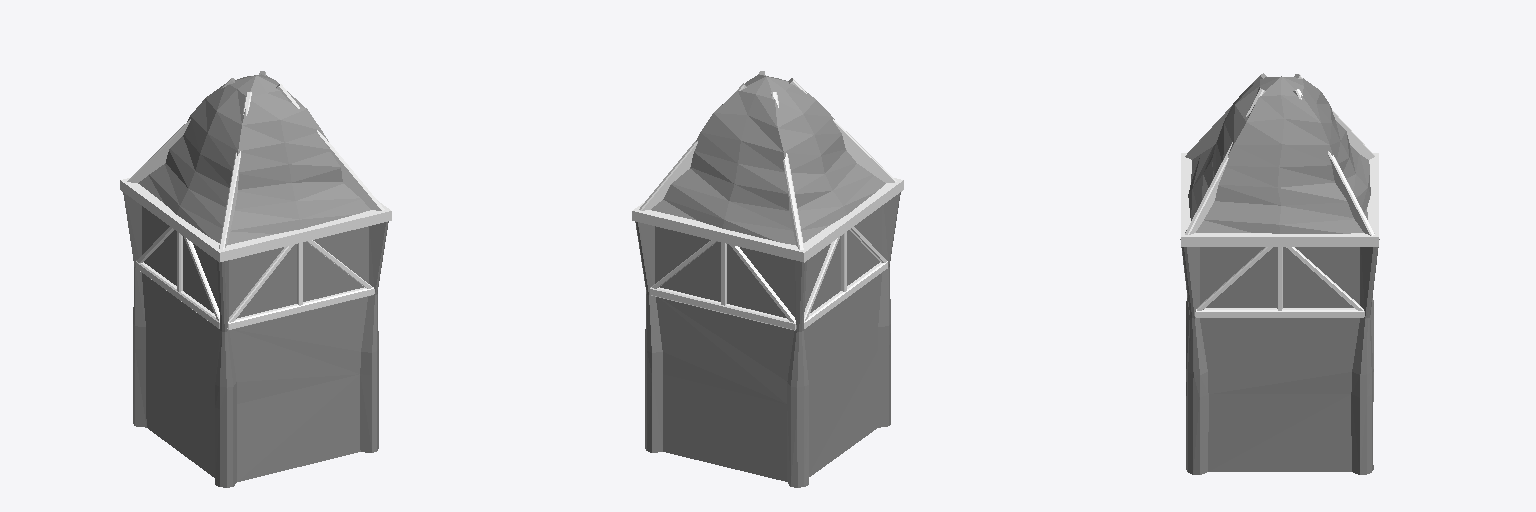
File: ex_common_house_tall_01.obj
3 renders of one model, left to right at view 1: azimuth 30°, elevation 25°; view 2: azimuth 150°, elevation 25°; view 3: azimuth 270°, elevation 25°, orthographic.
Visible parts, largest first — view 1: nifid_35-matrix_Tri_Ex_common_house_tall_01_2-lib, nifid_2-matrix_Tri_ChamferBox01_0-lib, nifid_12-matrix_Tri_ChamferBox01_2-lib, nifid_27-matrix_Tri_Ex_common_house_tall_01_0-lib, nifid_22-matrix_Tri_ChamferBox01_4-lib, nifid_17-matrix_Tri_ChamferBox01_3-lib, nifid_7-matrix_Tri_ChamferBox01_1-lib; view 2: nifid_35-matrix_Tri_Ex_common_house_tall_01_2-lib, nifid_2-matrix_Tri_ChamferBox01_0-lib, nifid_12-matrix_Tri_ChamferBox01_2-lib, nifid_27-matrix_Tri_Ex_common_house_tall_01_0-lib, nifid_22-matrix_Tri_ChamferBox01_4-lib, nifid_17-matrix_Tri_ChamferBox01_3-lib, nifid_7-matrix_Tri_ChamferBox01_1-lib; view 3: nifid_35-matrix_Tri_Ex_common_house_tall_01_2-lib, nifid_2-matrix_Tri_ChamferBox01_0-lib, nifid_12-matrix_Tri_ChamferBox01_2-lib, nifid_27-matrix_Tri_Ex_common_house_tall_01_0-lib, nifid_22-matrix_Tri_ChamferBox01_4-lib, nifid_17-matrix_Tri_ChamferBox01_3-lib, nifid_7-matrix_Tri_ChamferBox01_1-lib.
Boxes of the visible parts, <box> form: nifid_35-matrix_Tri_Ex_common_house_tall_01_2-lib: <box>138,74,370,244</box>; nifid_2-matrix_Tri_ChamferBox01_0-lib: <box>142,273,367,403</box>; nifid_12-matrix_Tri_ChamferBox01_2-lib: <box>146,350,360,481</box>; nifid_27-matrix_Tri_Ex_common_house_tall_01_0-lib: <box>120,72,391,330</box>; nifid_22-matrix_Tri_ChamferBox01_4-lib: <box>142,206,368,318</box>; nifid_17-matrix_Tri_ChamferBox01_3-lib: <box>133,267,378,487</box>; nifid_7-matrix_Tri_ChamferBox01_1-lib: <box>123,192,388,331</box>; nifid_35-matrix_Tri_Ex_common_house_tall_01_2-lib: <box>651,75,885,244</box>; nifid_2-matrix_Tri_ChamferBox01_0-lib: <box>656,273,881,404</box>; nifid_12-matrix_Tri_ChamferBox01_2-lib: <box>663,350,877,481</box>; nifid_27-matrix_Tri_Ex_common_house_tall_01_0-lib: <box>632,74,903,330</box>; nifid_22-matrix_Tri_ChamferBox01_4-lib: <box>655,206,881,318</box>; nifid_17-matrix_Tri_ChamferBox01_3-lib: <box>645,267,890,487</box>; nifid_7-matrix_Tri_ChamferBox01_1-lib: <box>635,192,900,331</box>; nifid_35-matrix_Tri_Ex_common_house_tall_01_2-lib: <box>1188,76,1370,233</box>; nifid_2-matrix_Tri_ChamferBox01_0-lib: <box>1200,318,1359,393</box>; nifid_12-matrix_Tri_ChamferBox01_2-lib: <box>1208,394,1351,471</box>; nifid_27-matrix_Tri_Ex_common_house_tall_01_0-lib: <box>1181,74,1378,317</box>; nifid_22-matrix_Tri_ChamferBox01_4-lib: <box>1200,247,1359,307</box>; nifid_17-matrix_Tri_ChamferBox01_3-lib: <box>1186,298,1373,474</box>; nifid_7-matrix_Tri_ChamferBox01_1-lib: <box>1180,239,1379,318</box>.
Size of the model in its own units: 15.1 by 30.11 by 15.1.